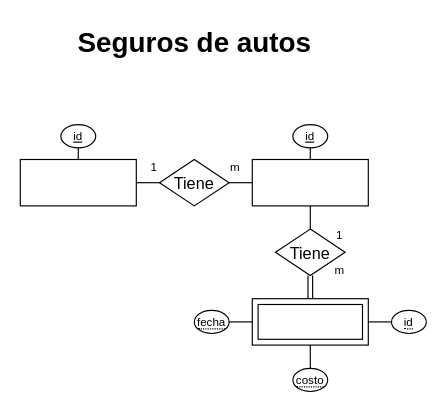
Image size: 447x412. Some labels were removed from this diagram. The shapes that lost their labels are listed below. From the top down, each one's box as (x1, y1, x2, y2) in pixels, then its label:
(19, 158, 136, 206): Cliente
(251, 158, 368, 206): Auto
(251, 298, 368, 345): Accidente
